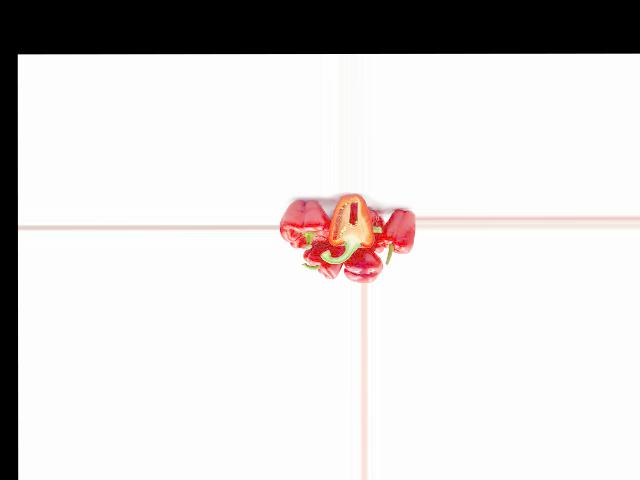bell_pepper: (301, 245, 344, 279)
